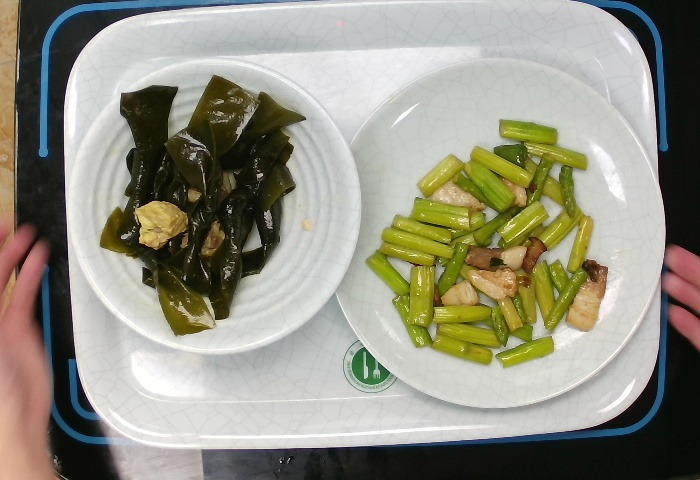JYsf-Da_Yuan_Pan: (332, 55, 669, 411)
JYsf-Xiao_Tang_Wan: (65, 53, 364, 358)
